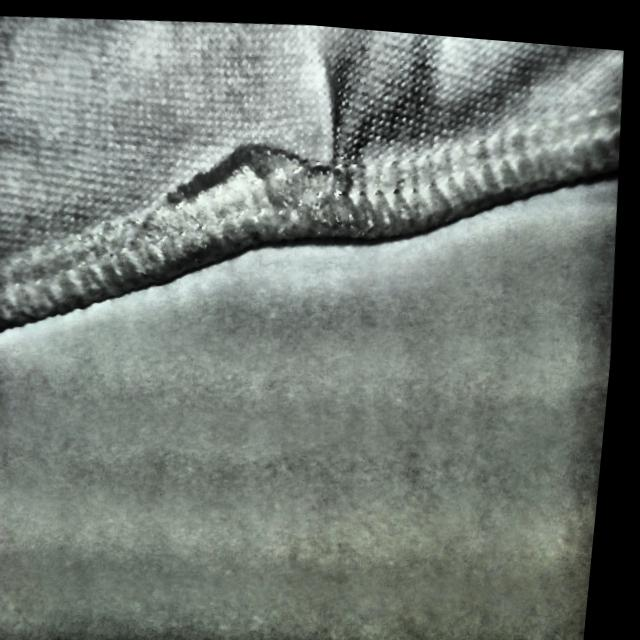seam: (197, 51, 402, 244)
